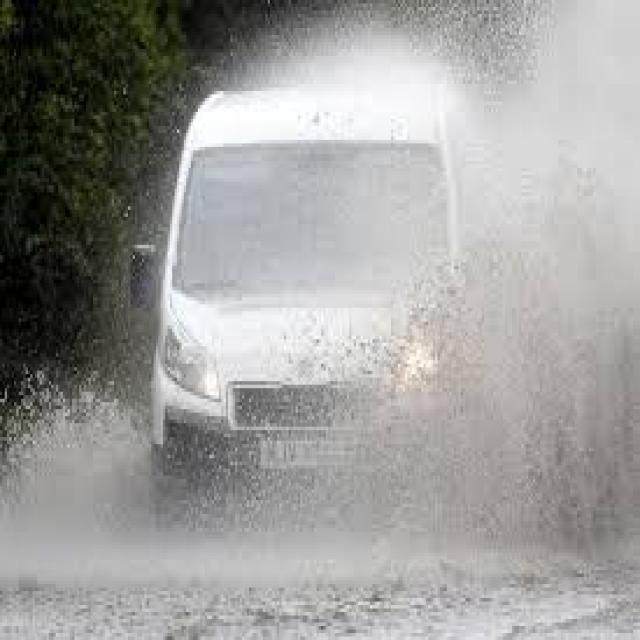car: (151, 88, 491, 479)
